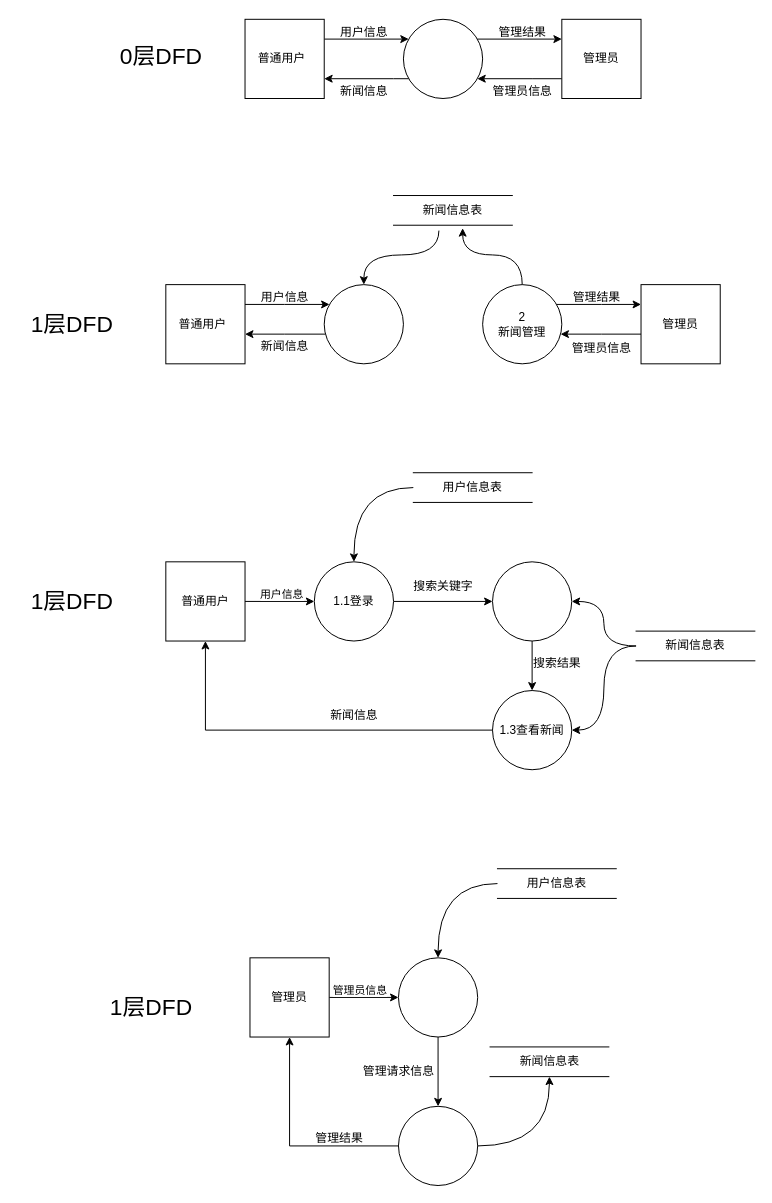
Image size: 772x1203. Some labels were removed from this diagram. Here are the shapes that lost their labels. From the top down, the box of each, then its label:
(402, 18, 483, 99): 新闻发布系统
(323, 284, 403, 364): 1 新闻浏览
(492, 561, 572, 641): 1.2搜索新闻
(397, 957, 478, 1037): 2.1 登录
(397, 1105, 478, 1186): 2.2 增删改新闻
